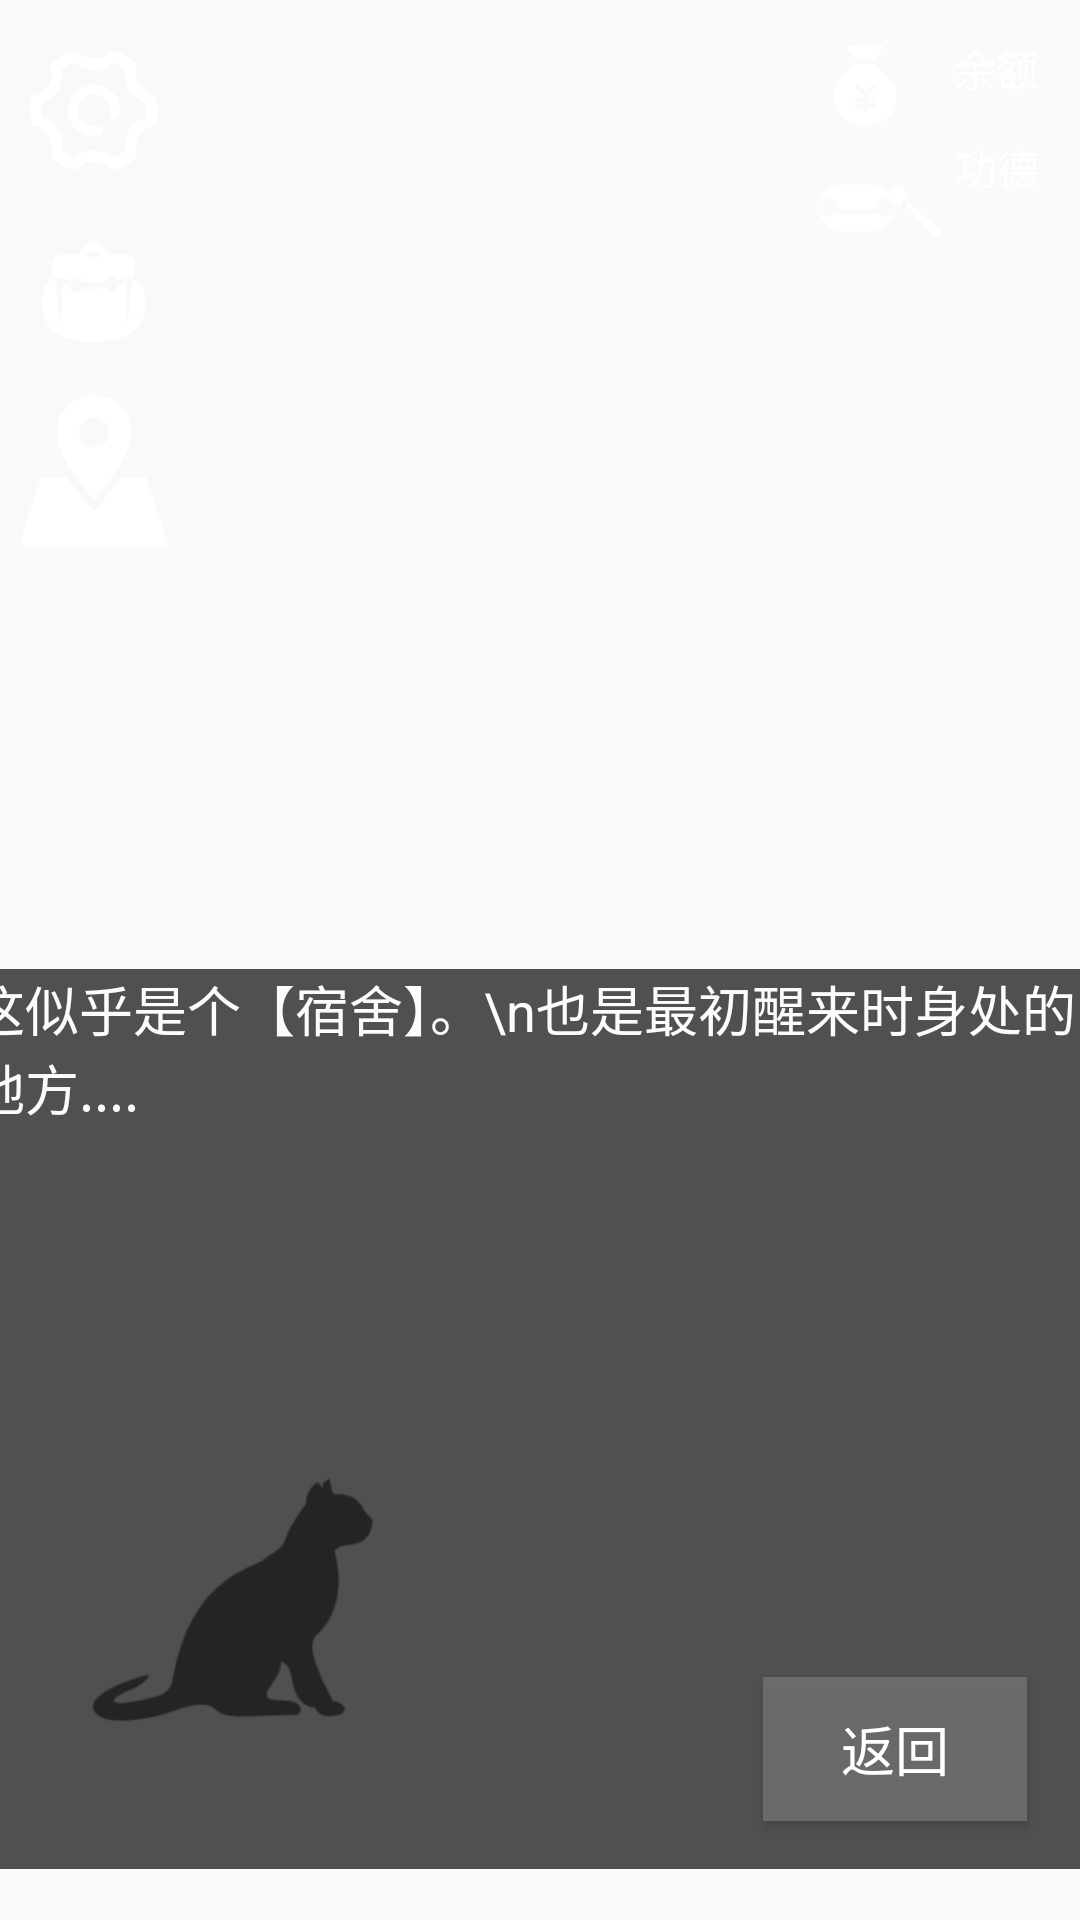

Icon click points for this 1080x1920 phone screenshot, format (x,y):
cat: (233,1600)
